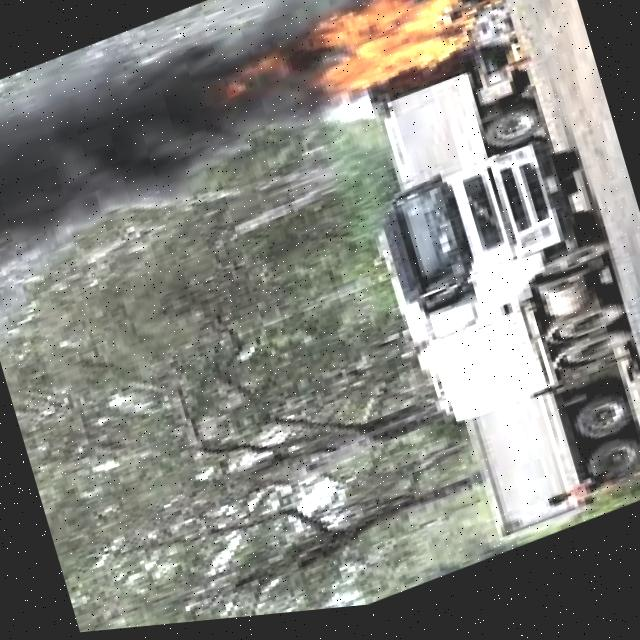Fire: (272, 0, 524, 129)
Smoke: (0, 0, 383, 285)
